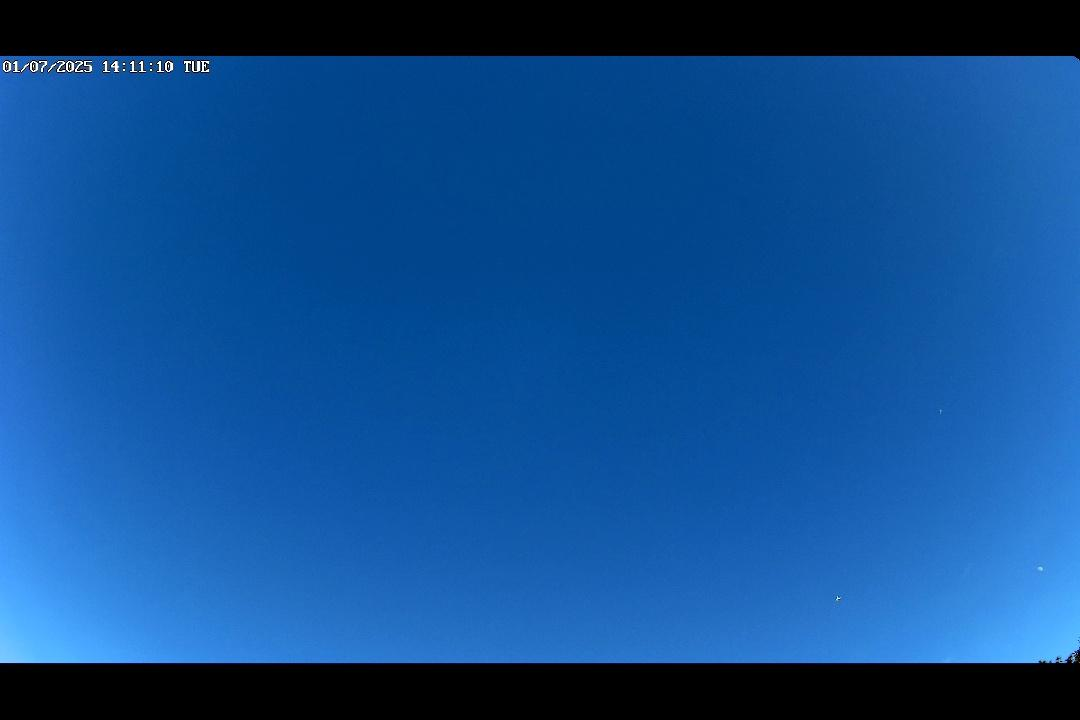WildLife: (934, 403, 949, 418), (832, 591, 847, 604)
